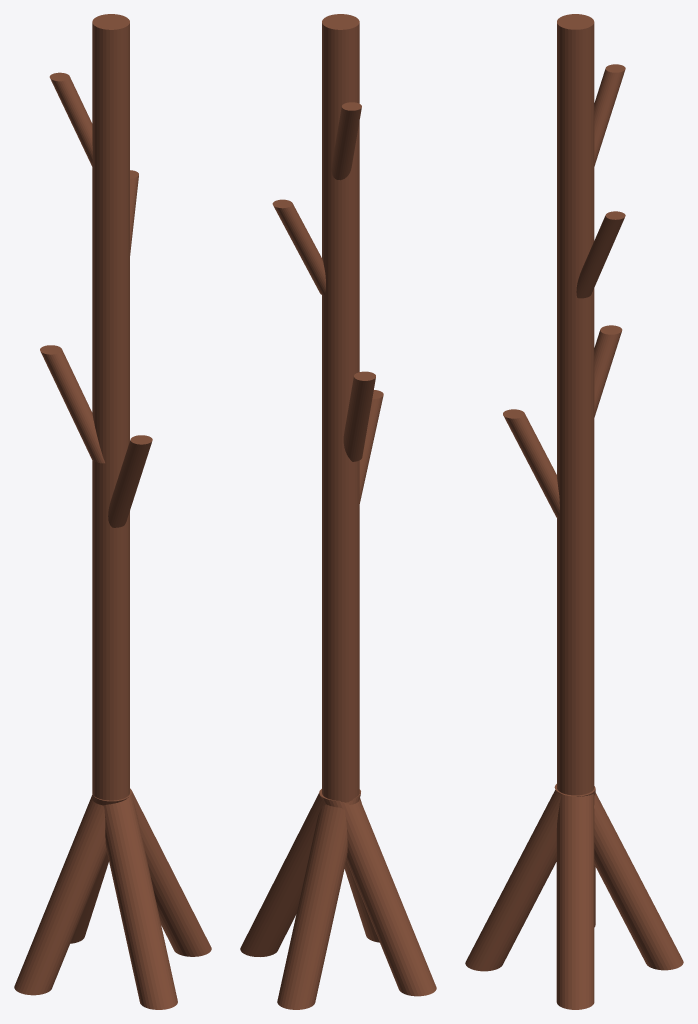
Rendered from perchero.gltf.
3 views of the same model, side by side, from view 1: azimuth 30°, elevation 25°; view 2: azimuth 150°, elevation 25°; view 3: azimuth 270°, elevation 25° (orthographic).
Parts seen in each view (by area): view 1: Cylinder.006, Cylinder.005, Cylinder.003, Cylinder, Cylinder.001, Cylinder.007, Cylinder.004, Cylinder.002; view 2: Cylinder.006, Cylinder.002, Cylinder.003, Cylinder, Cylinder.001, Cylinder.008, Cylinder.004, Cylinder.007, Cylinder.005; view 3: Cylinder.006, Cylinder, Cylinder.005, Cylinder.002, Cylinder.007, Cylinder.008, Cylinder.004, Cylinder.001.
Part boxes in pixels (bbox=[...]): Cylinder.006: bbox=[92, 14, 129, 800]; Cylinder.005: bbox=[103, 791, 177, 1009]; Cylinder.003: bbox=[14, 789, 131, 995]; Cylinder: bbox=[129, 788, 211, 956]; Cylinder.001: bbox=[40, 345, 104, 463]; Cylinder.007: bbox=[108, 435, 152, 527]; Cylinder.004: bbox=[49, 72, 92, 166]; Cylinder.002: bbox=[70, 791, 130, 943]; Cylinder.006: bbox=[322, 14, 359, 802]; Cylinder.002: bbox=[277, 789, 360, 1009]; Cylinder.003: bbox=[319, 790, 436, 996]; Cylinder: bbox=[240, 789, 329, 956]; Cylinder.001: bbox=[343, 371, 375, 461]; Cylinder.008: bbox=[272, 199, 325, 295]; Cylinder.004: bbox=[331, 102, 361, 180]; Cylinder.007: bbox=[359, 390, 383, 503]; Cylinder.005: bbox=[320, 789, 379, 942]; Cylinder.006: bbox=[557, 14, 594, 795]; Cylinder: bbox=[556, 788, 594, 1009]; Cylinder.005: bbox=[465, 787, 561, 971]; Cylinder.002: bbox=[554, 784, 683, 970]; Cylinder.007: bbox=[503, 409, 559, 518]; Cylinder.008: bbox=[576, 211, 625, 298]; Cylinder.004: bbox=[594, 64, 625, 166]; Cylinder.001: bbox=[594, 325, 622, 417].
Bounding box in the file's own units: 1.04 × 4.92 × 1.03.
